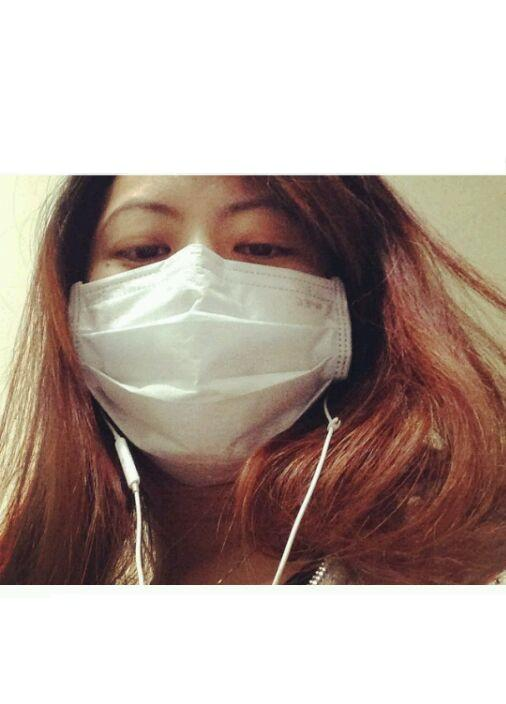OK: (77, 179, 361, 463)
